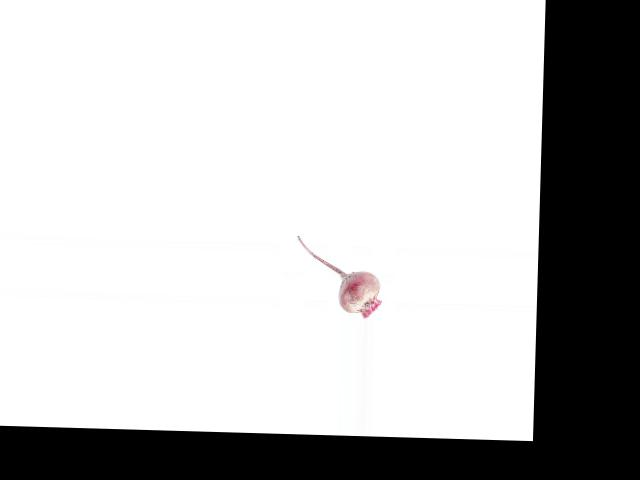beet: (294, 235, 383, 319)
